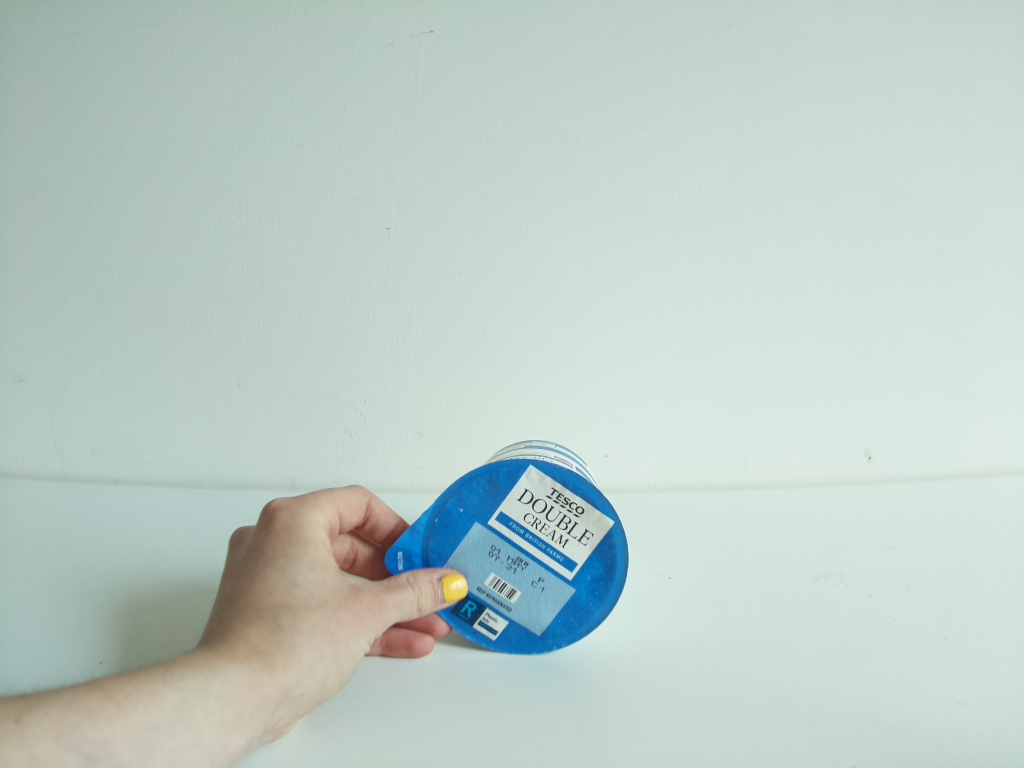cream: (382, 435, 629, 654)
